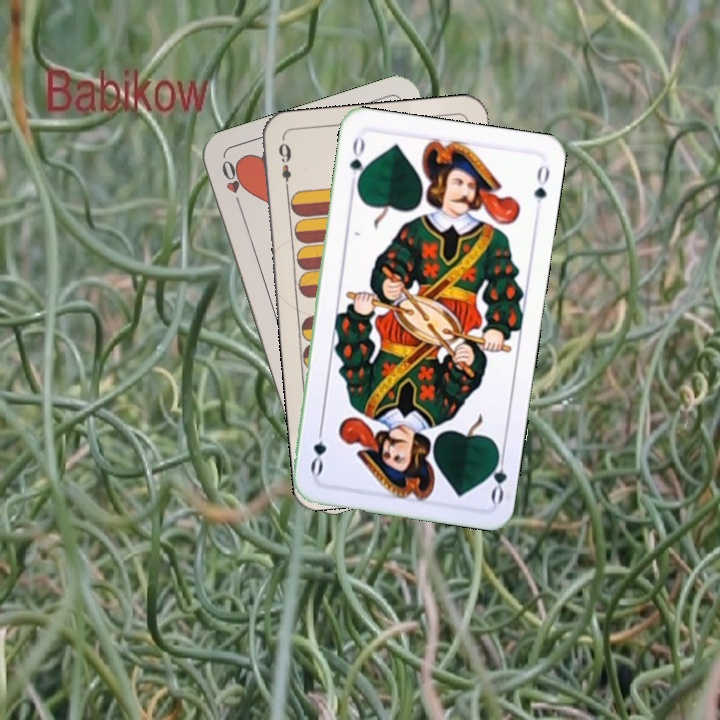E9: (275, 136, 294, 195)
GO: (483, 445, 510, 505), (345, 132, 368, 191)
HO: (218, 156, 246, 213)
